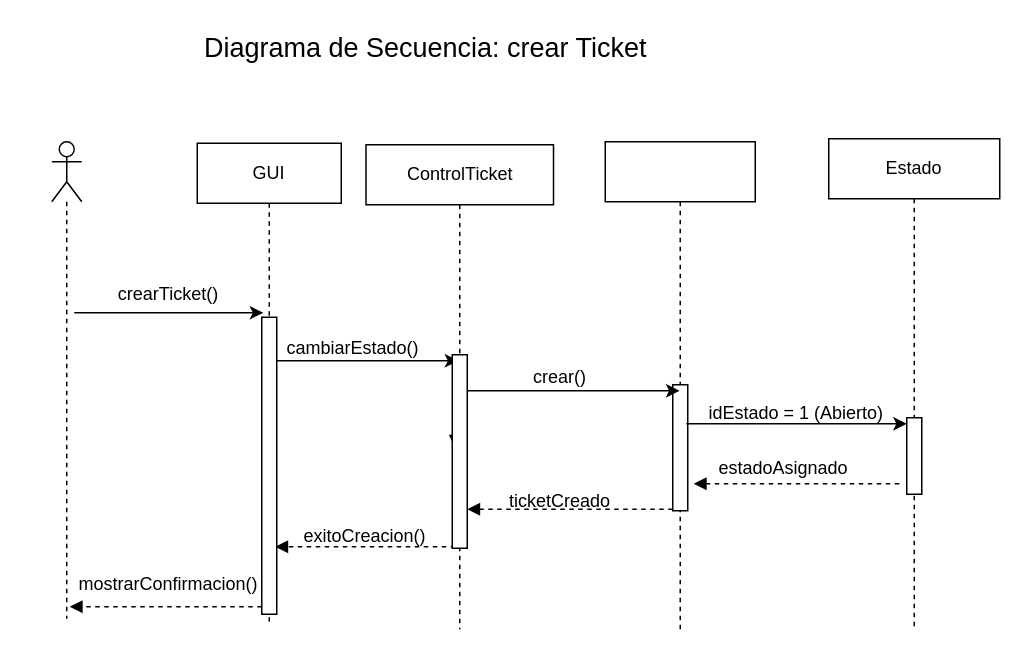
Some shapes in this 1026 by 657 pixel diagram are drawn without their labels. Each missing label, with the box of its shape:
Cliente: (50, 140, 82, 619)
Ticket: (604, 140, 755, 631)
